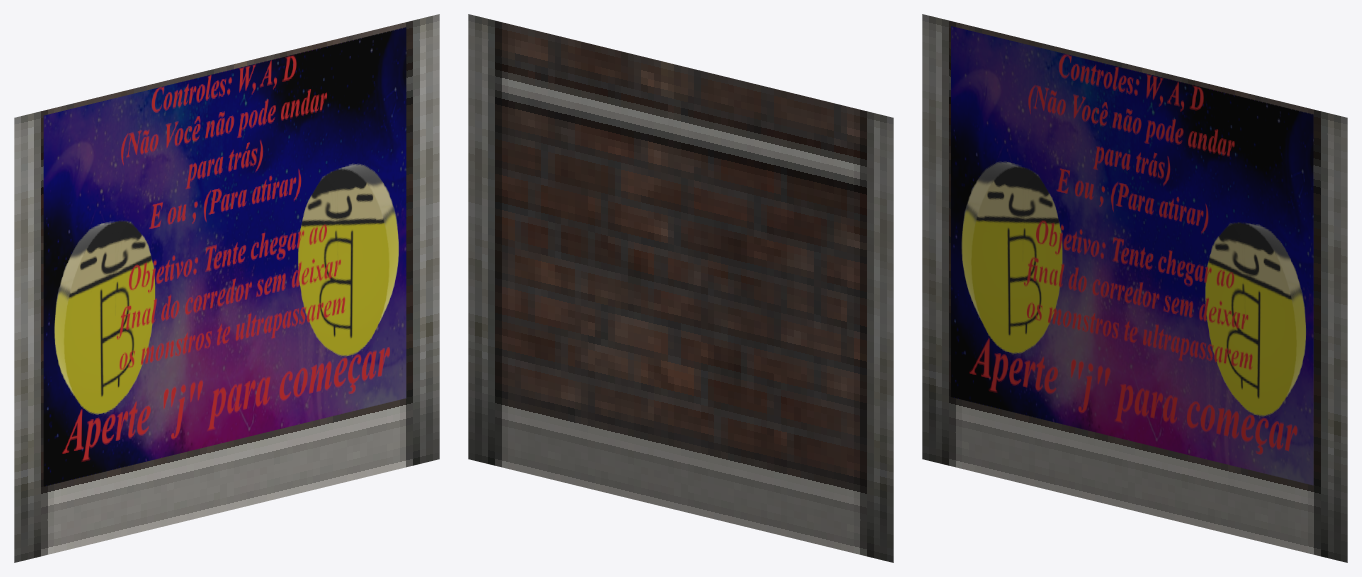
Rendered from parede2.glb.
3 views of the same model, side by side, from view 1: azimuth 30°, elevation 25°; view 2: azimuth 150°, elevation 25°; view 3: azimuth 330°, elevation 25° (orthographic).
Parts seen in each view (by area): view 1: mesh_id43, node_id11; view 2: node_id11; view 3: mesh_id43, node_id11.
Boxes of the visible parts, x1,y1,x2,y2 form: mesh_id43: [43, 27, 406, 486]; node_id11: [14, 14, 439, 562]; node_id11: [468, 14, 893, 562]; mesh_id43: [951, 26, 1313, 485]; node_id11: [922, 14, 1347, 562].
Size of the model in its own units: 0.512 by 0.512 by 0.000724.
Materials: 2 (2 with a texture image).
